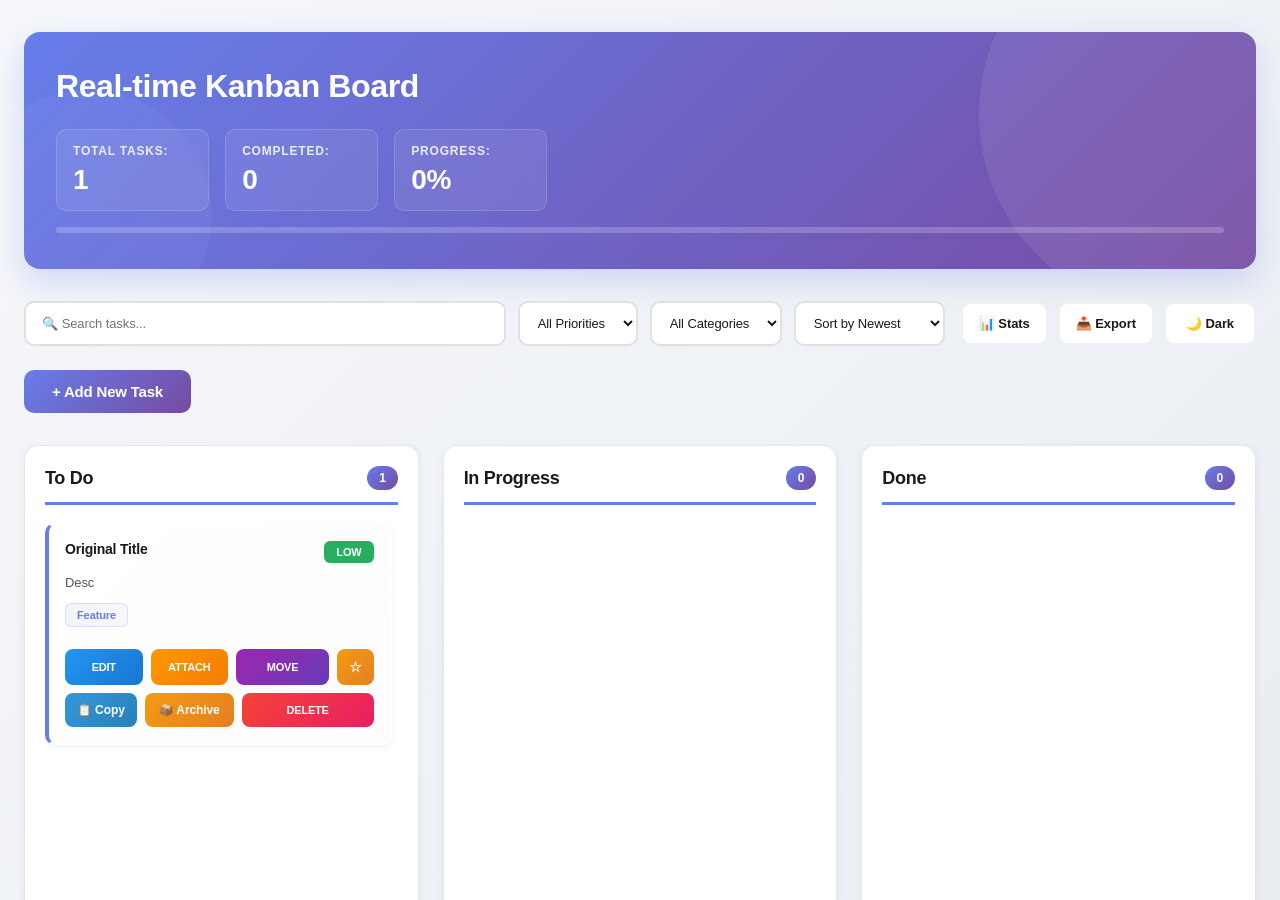
Test case: KanbanBoard Unit Tests › allows editing task when edit button is clicked
Click the button "Edit": x=104, y=666 [65,648,142,684]
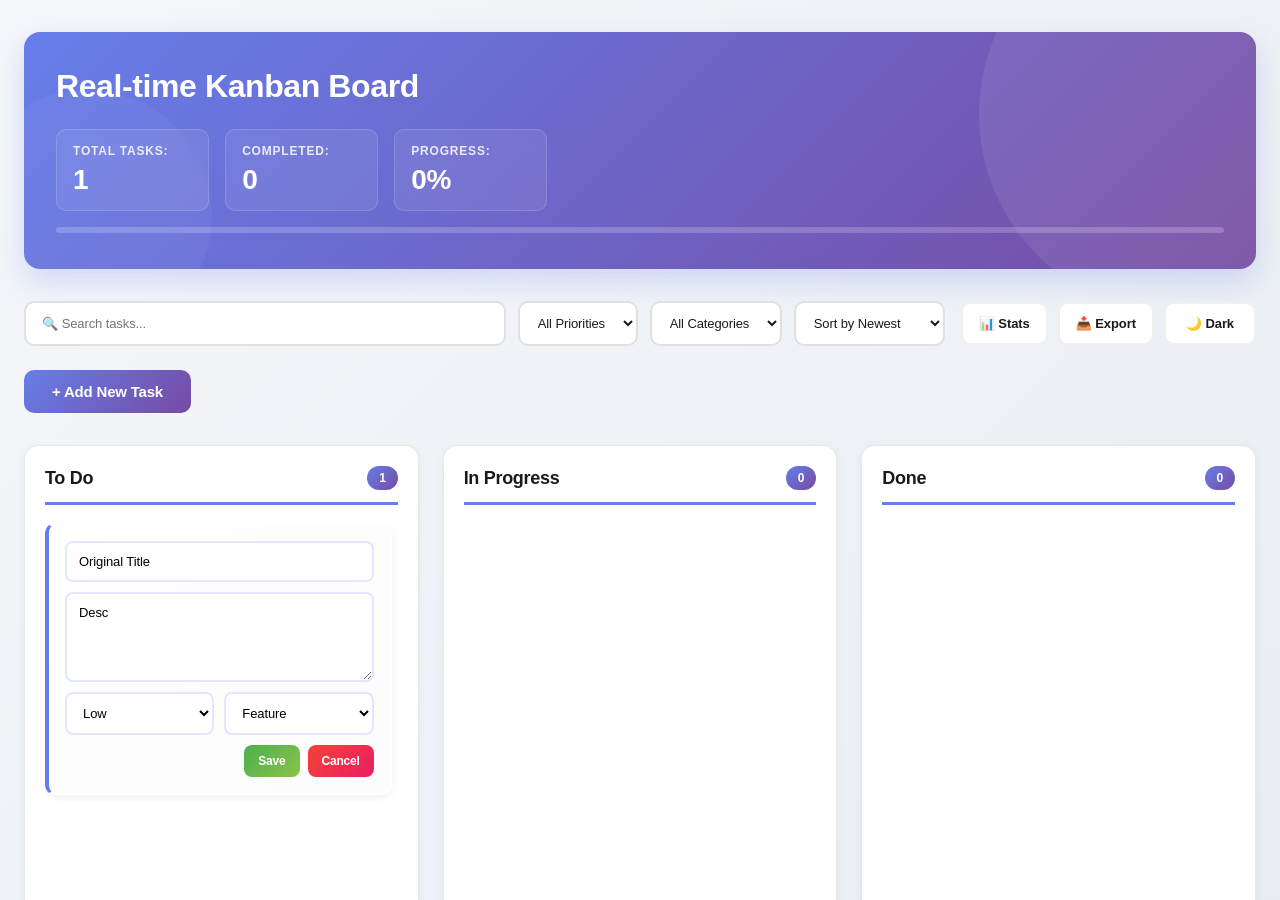
Check: the field showing "Original Title" is shown, box [65,541,374,582]
